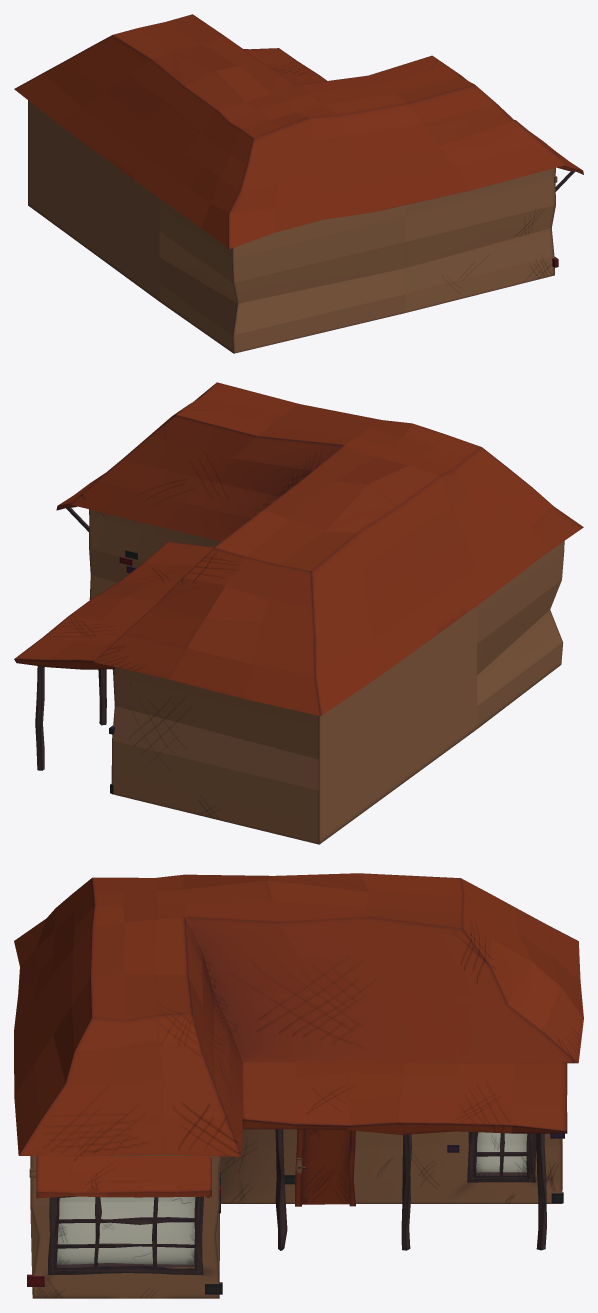
The model's file is BuildingHouse_02.fbx.
The picture shows the model from 3 angles, top to bottom: view 1: azimuth 30°, elevation 25°; view 2: azimuth 150°, elevation 25°; view 3: azimuth 270°, elevation 25°; orthographic projection. The views are drawn at different scales.
Visible parts, largest first — view 1: House_02; view 2: House_02; view 3: House_02.
Part boxes in pixels (x1,y1,x2,y2): House_02: (14, 14, 583, 353); House_02: (14, 382, 583, 844); House_02: (14, 873, 583, 1298).
Bounding box in the file's own units: 948 × 503 × 988.
